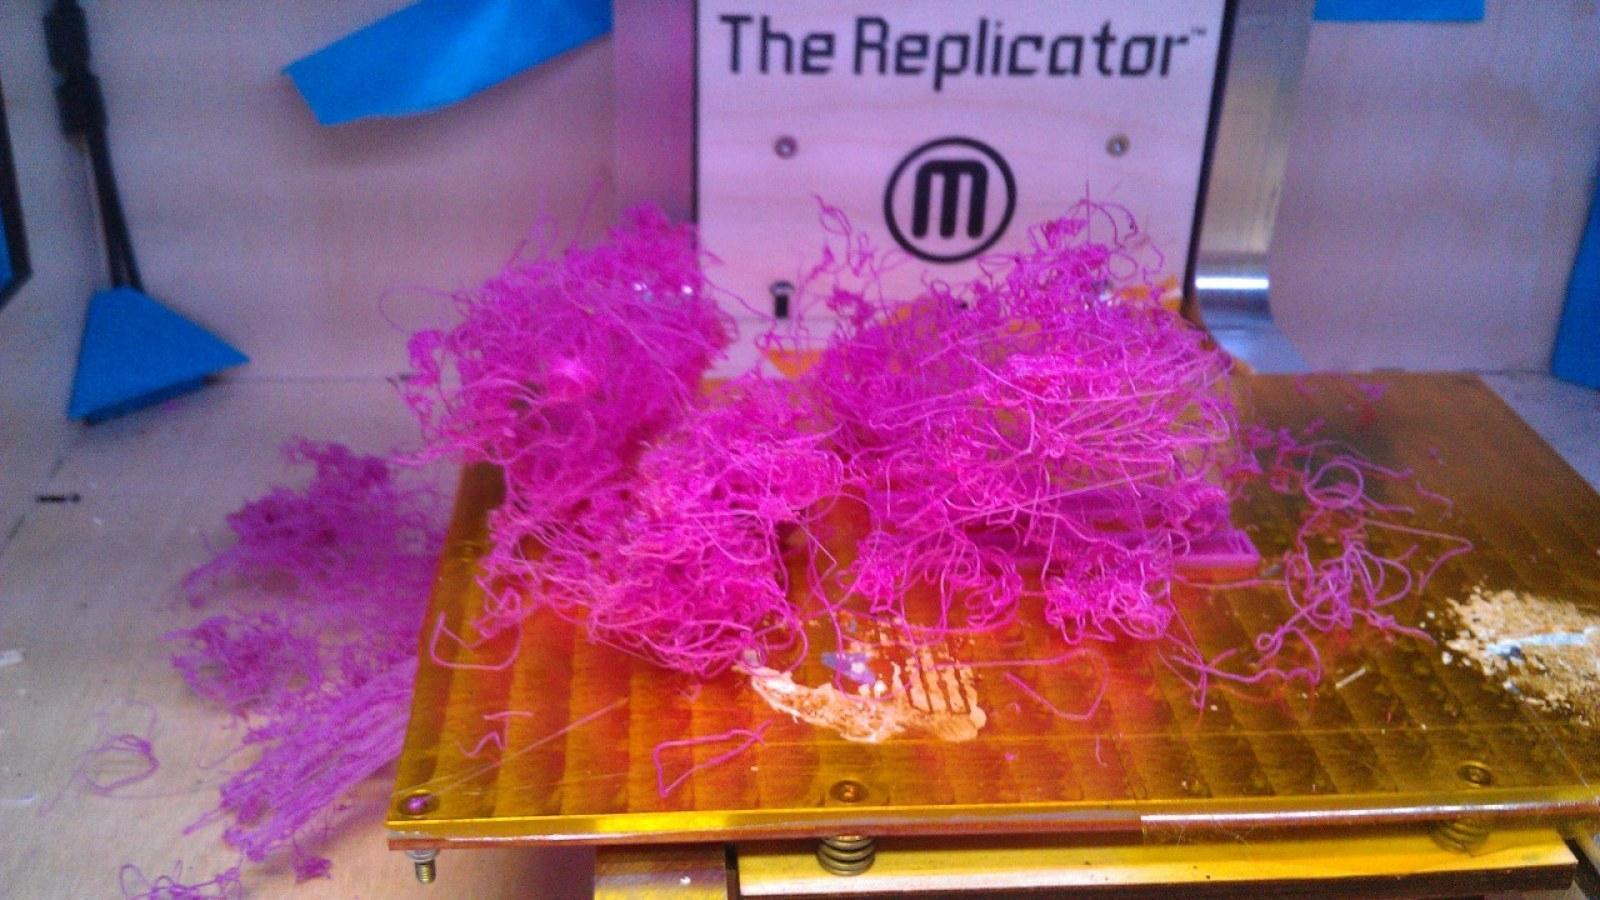Spaghetti: (389, 211, 1248, 660), (160, 440, 421, 899)
